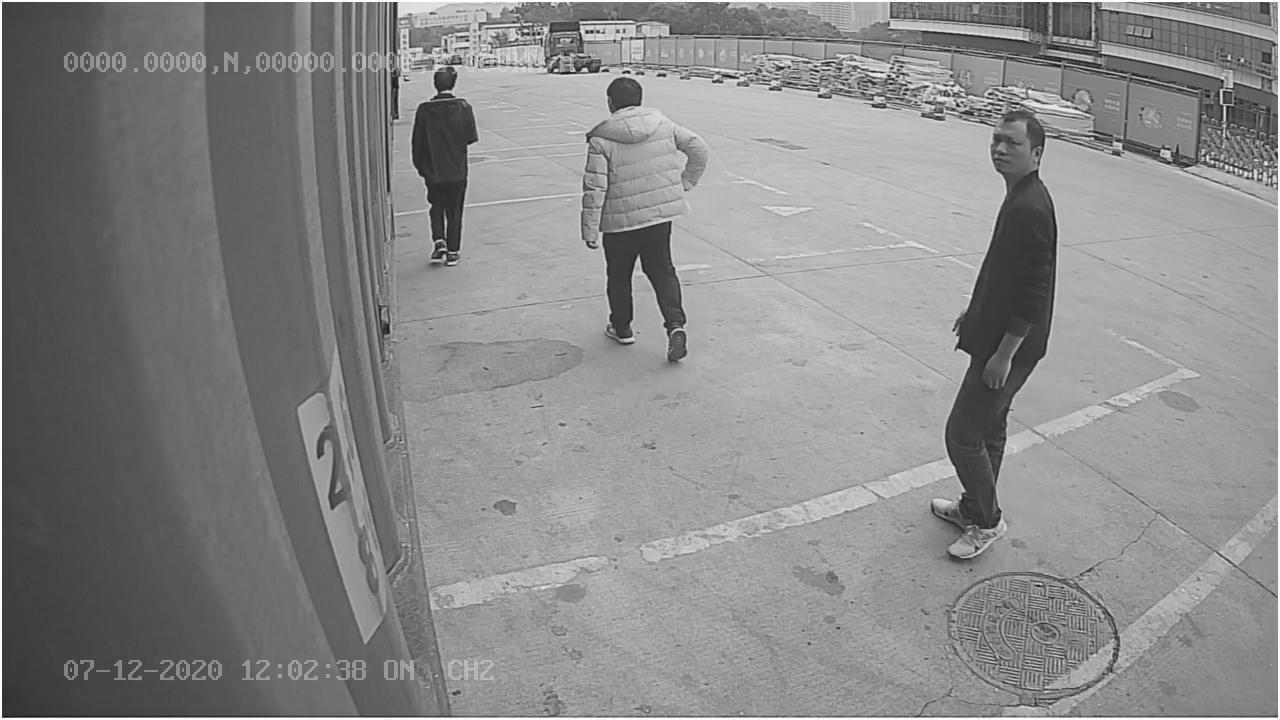person: (925, 101, 1061, 569), (573, 73, 711, 366)
